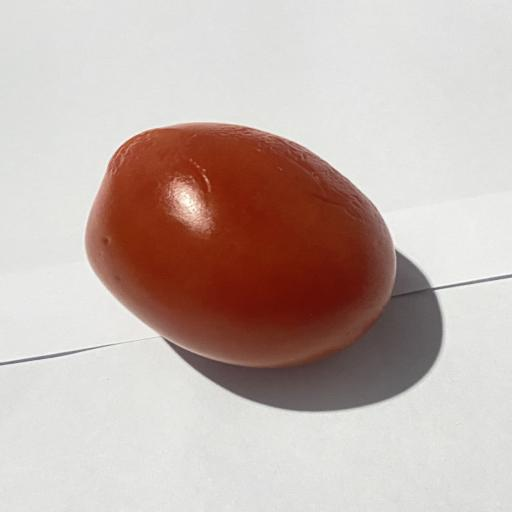spoiled: (86, 123, 395, 367)
